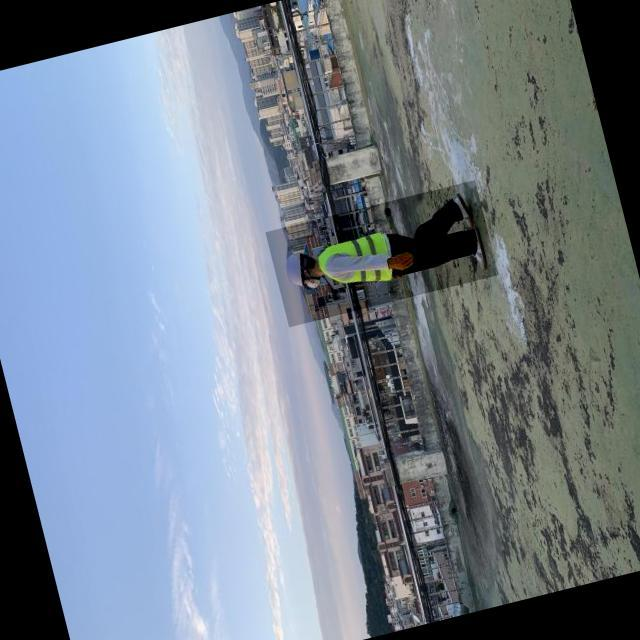Gloves: (385, 249, 421, 275)
Helmet: (280, 250, 310, 291)
Person: (273, 179, 516, 312)
Safety Boot: (463, 227, 492, 276), (448, 190, 476, 231)
Safety Vest: (313, 228, 399, 300)
